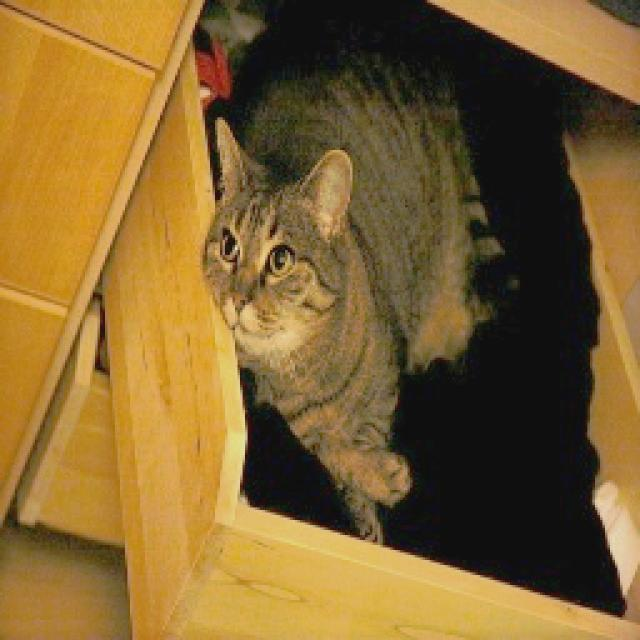cat: (185, 51, 523, 520)
